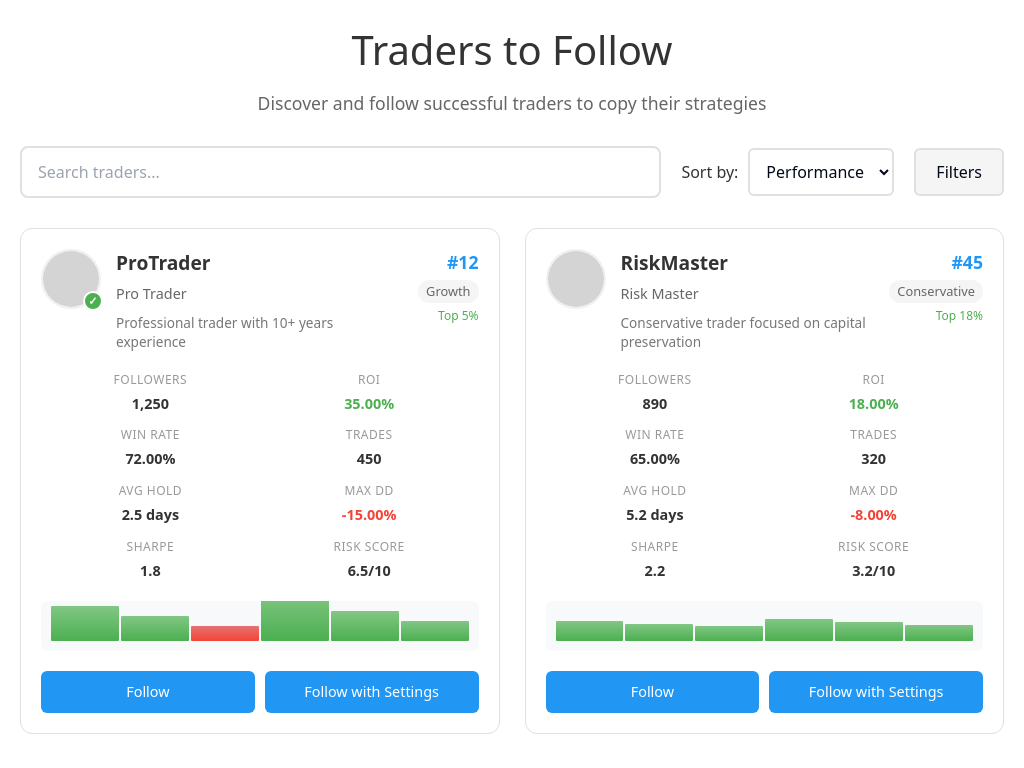
it: TradersToFollow › Following/Unfollowing Traders › should validate copy settings before following
Expected: the heading "ProTrader" is shown, [116,249,210,276]
Click the 1st button "Follow with Settings" at (372, 692), box [265,671,479,713]
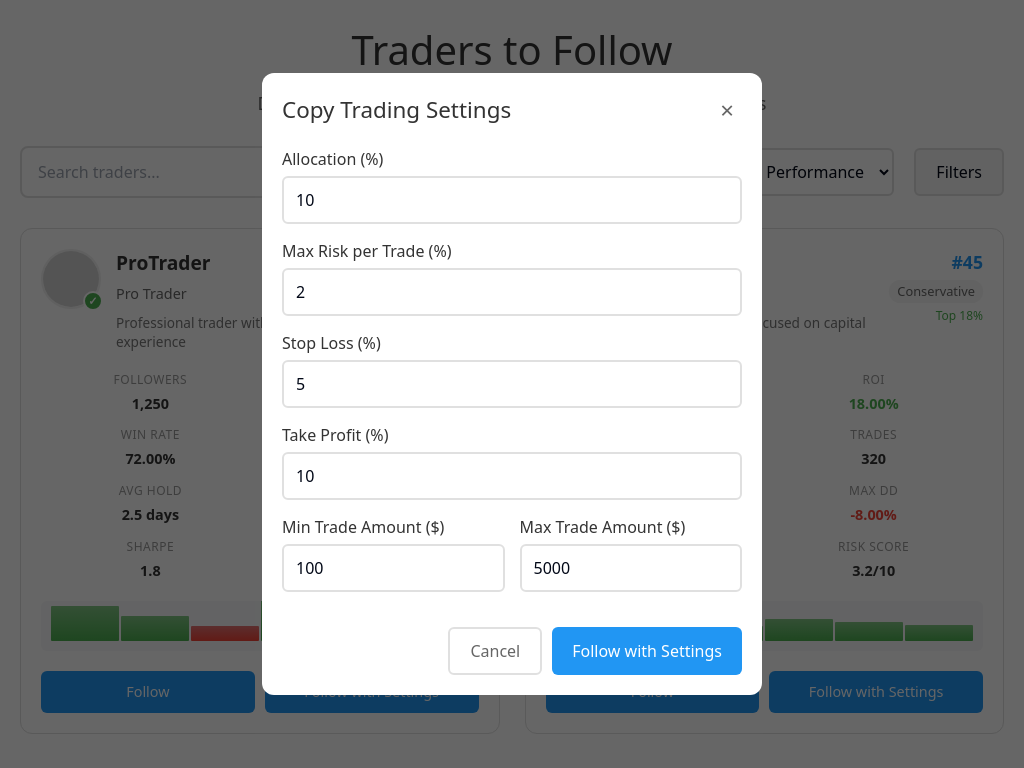
Result: the element with test id "copy-settings-modal" is shown
Replace the text in the number field labelled "Allocation (%)" with "150" at (512, 200), box [282,176,742,224]
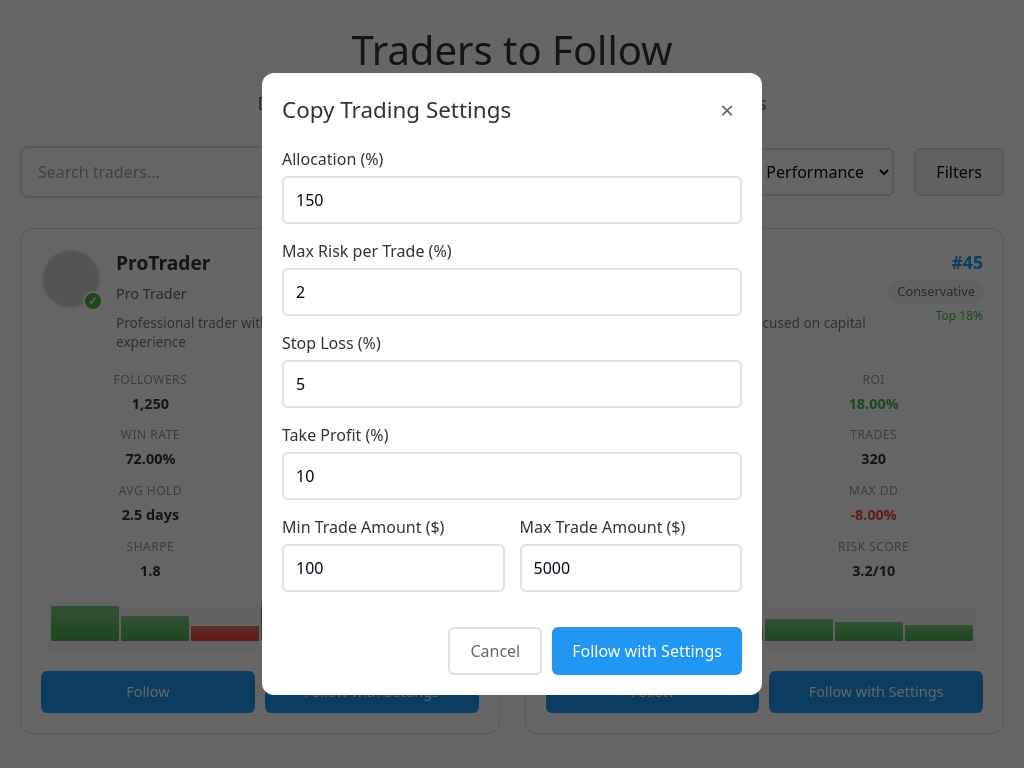
Click the button with test id "follow-with-settings-button" at (647, 651), box [552,627,742,675]
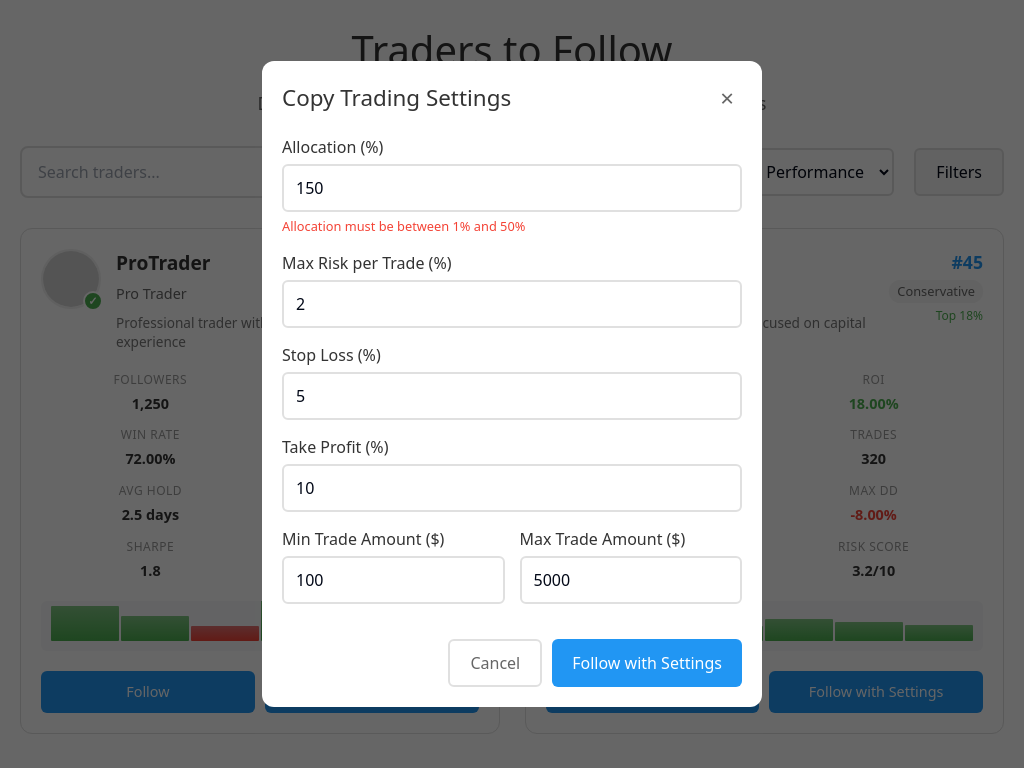
Result: the text "Allocation must be between 1% and 50%" is shown at [282,217,525,235]
